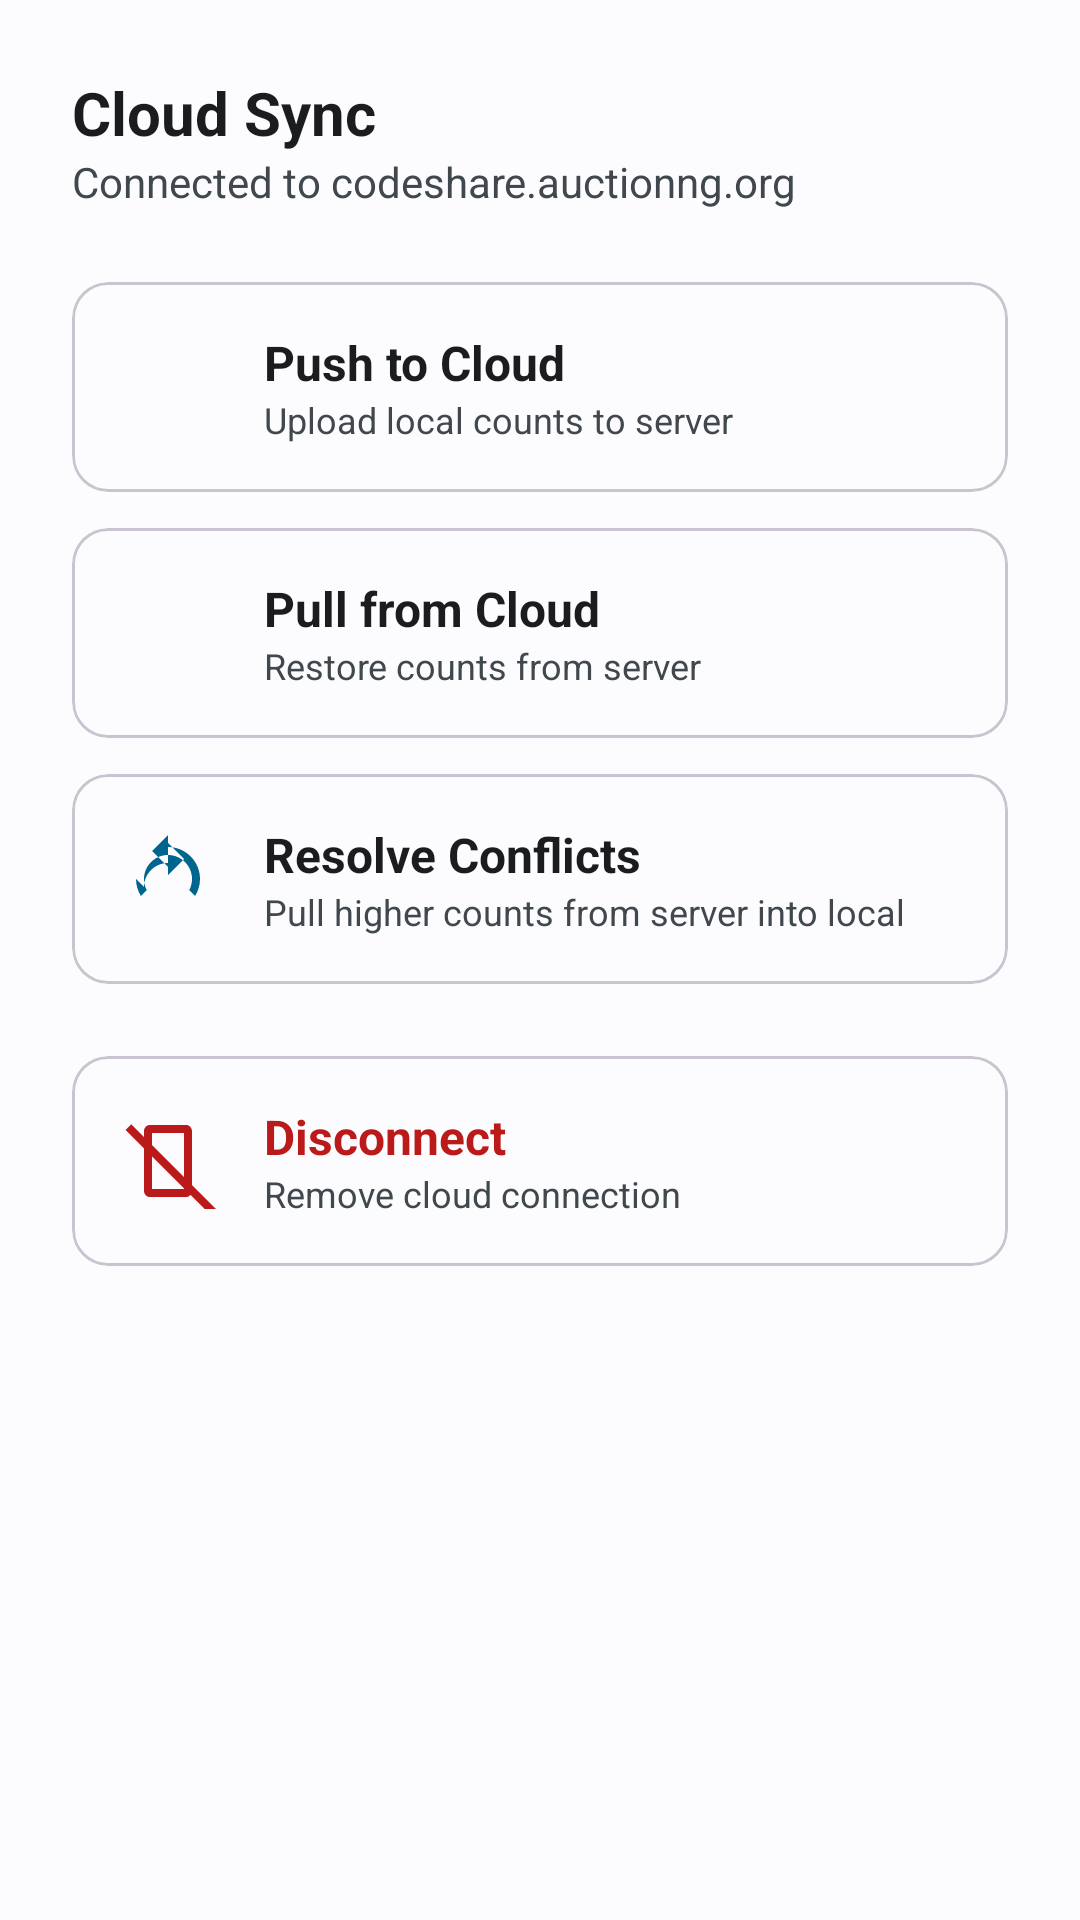

Screen size 1080*1920. Icon name, then its center in pixels as [x,y]:
mobile off: [171,1166]
sync: [168,865]
